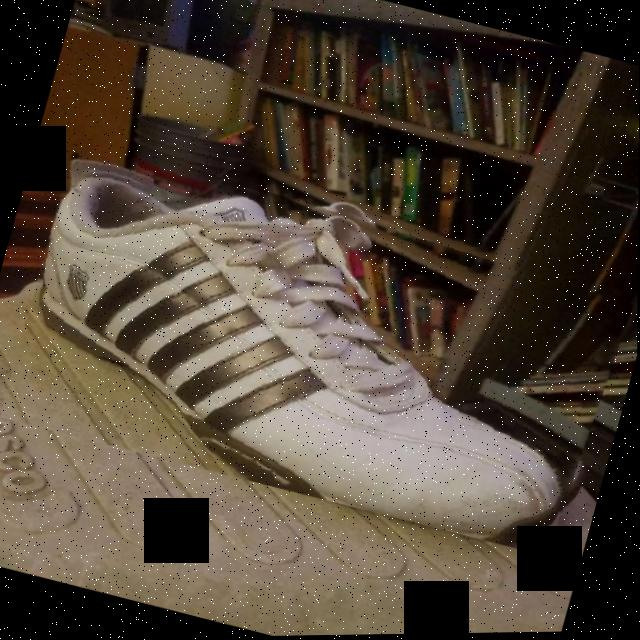shoe: (0, 126, 639, 568)
